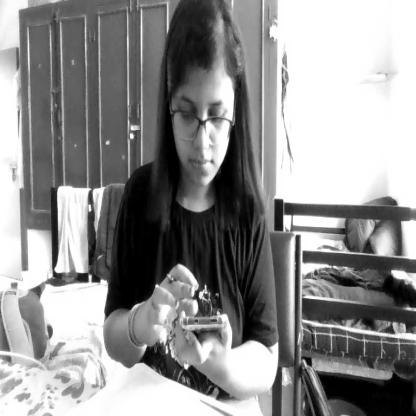Normal: (164, 0, 242, 192)
